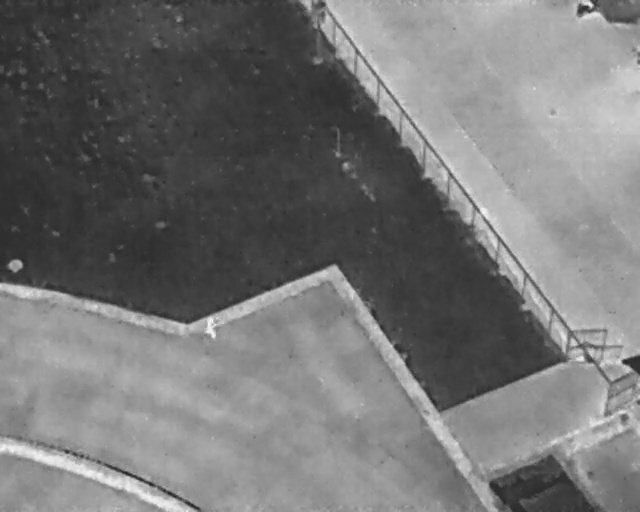Person: (204, 315, 218, 340)
